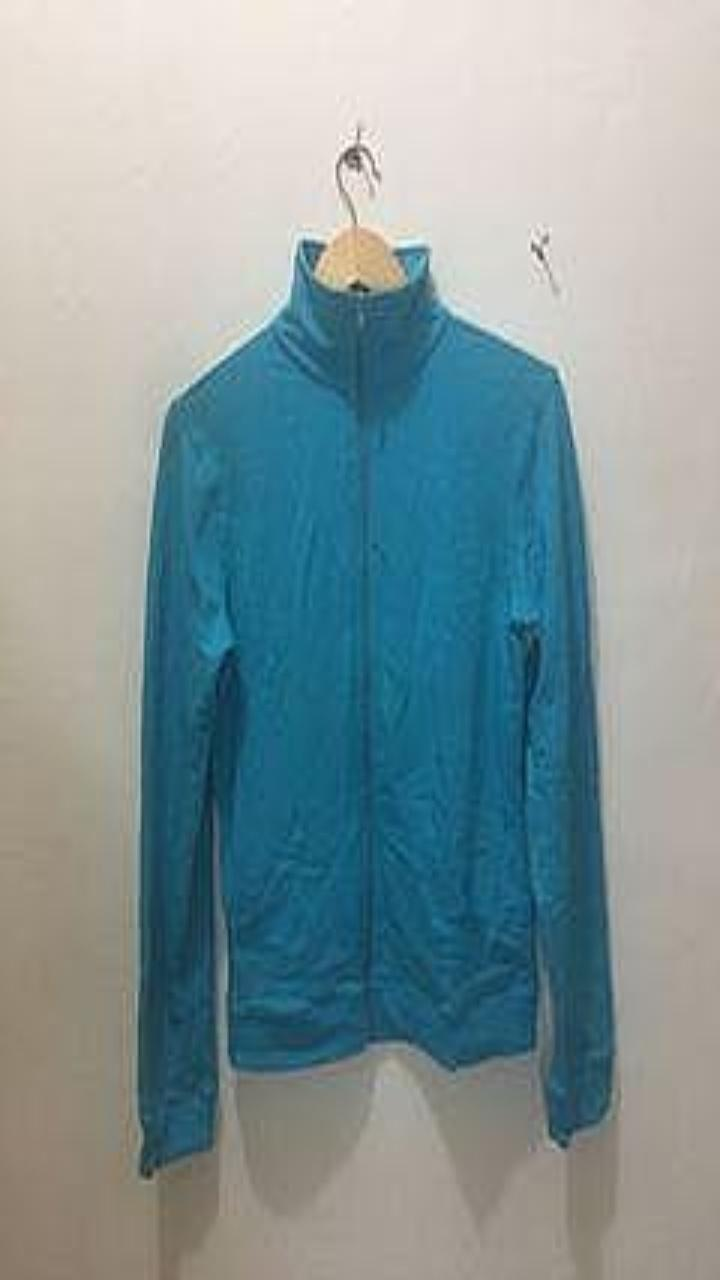Sports_Jacket: (137, 237, 614, 1176)
